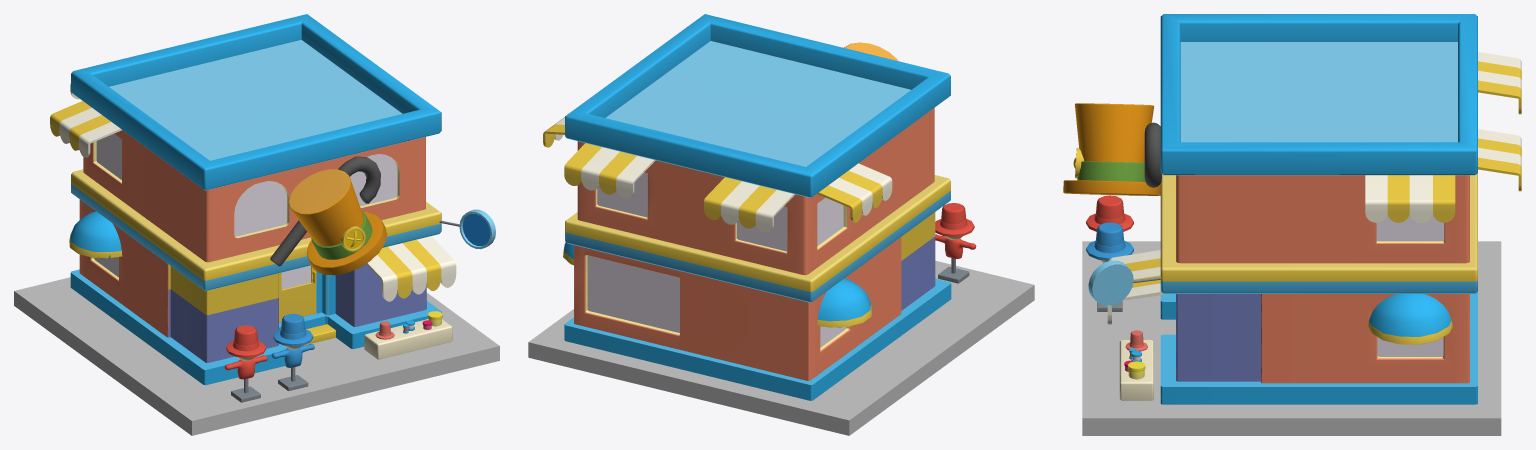
File: hat_house.fbx
3 views of the same model, side by side, from view 1: azimuth 30°, elevation 25°; view 2: azimuth 150°, elevation 25°; view 3: azimuth 270°, elevation 25° (orthographic). The views are drawn at different scales.
Visible parts, largest first — view 1: House, Nen; view 2: House, Nen; view 3: House, Nen.
Boxes of the visible parts, box(x1,y1,x2,y2) form: House: box(50, 14, 495, 402); Nen: box(14, 277, 499, 435); House: box(543, 14, 976, 400); Nen: box(528, 260, 1034, 435); House: box(1063, 14, 1521, 404); Nen: box(1082, 241, 1501, 435).
Size of the model in its own units: 1324 by 933 by 1422.
